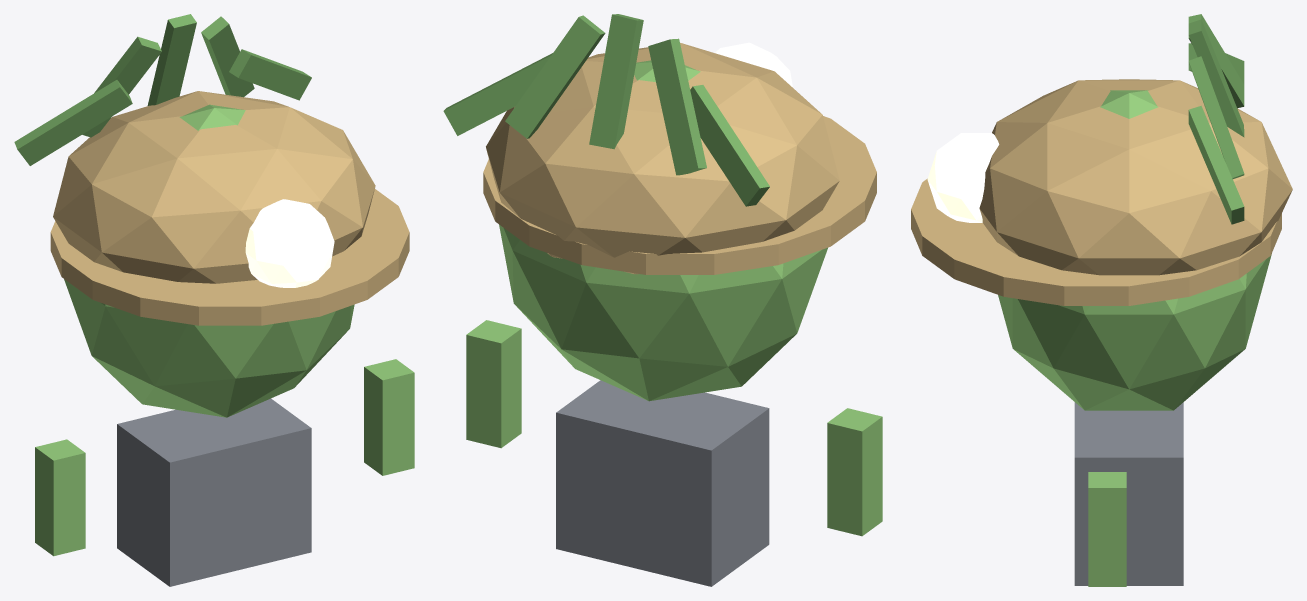
Rendered from lil_blunt_placeholder.glb.
3 renders of one model, left to right at view 1: azimuth 30°, elevation 25°; view 2: azimuth 150°, elevation 25°; view 3: azimuth 270°, elevation 25°, orthographic. The views are drawn at different scales.
Parts seen in each view (by area): view 1: Helmet, Torso, Head, Brim, HeadLamp, Arm+1, Arm-1, Frond0, Frond2, Frond4, Frond3, Frond1; view 2: Helmet, Torso, Head, Brim, Arm-1, Arm+1, Frond1, Frond2, Frond3, Frond0, Frond4, HeadLamp; view 3: Helmet, Head, Torso, Brim, HeadLamp, Arm+1, Frond4, Frond2, Frond3, Frond1.
Boxes of the visible parts, x1=… form: Helmet: x1=53, y1=91, x2=375, y2=283; Torso: x1=117, y1=398, x2=311, y2=586; Head: x1=64, y1=104, x2=354, y2=417; Brim: x1=50, y1=189, x2=409, y2=325; HeadLamp: x1=245, y1=199, x2=334, y2=287; Arm+1: x1=364, y1=359, x2=414, y2=475; Arm-1: x1=35, y1=439, x2=85, y2=556; Frond0: x1=14, y1=80, x2=132, y2=165; Frond2: x1=147, y1=14, x2=196, y2=105; Frond4: x1=229, y1=49, x2=311, y2=100; Frond3: x1=201, y1=16, x2=254, y2=97; Frond1: x1=82, y1=36, x2=161, y2=137; Helmet: x1=486, y1=43, x2=839, y2=274; Torso: x1=556, y1=380, x2=769, y2=586; Head: x1=499, y1=60, x2=827, y2=401; Brim: x1=483, y1=116, x2=876, y2=274; Arm-1: x1=827, y1=408, x2=882, y2=536; Arm+1: x1=466, y1=320, x2=521, y2=448; Frond1: x1=648, y1=38, x2=706, y2=175; Frond2: x1=589, y1=14, x2=643, y2=149; Frond3: x1=505, y1=15, x2=605, y2=138; Frond0: x1=690, y1=85, x2=769, y2=206; Frond4: x1=443, y1=53, x2=552, y2=135; HeadLamp: x1=715, y1=42, x2=792, y2=87; Helmet: x1=979, y1=79, x2=1292, y2=275; Head: x1=998, y1=90, x2=1271, y2=410; Torso: x1=1074, y1=402, x2=1183, y2=585; Brim: x1=911, y1=178, x2=1281, y2=305; HeadLamp: x1=927, y1=133, x2=999, y2=222; Arm+1: x1=1088, y1=472, x2=1126, y2=586; Frond4: x1=1188, y1=105, x2=1244, y2=224; Frond2: x1=1188, y1=19, x2=1244, y2=137; Frond3: x1=1188, y1=56, x2=1244, y2=178; Frond1: x1=1188, y1=14, x2=1244, y2=108.
Bounding box in the file's own units: 0.79 × 1.06 × 0.7.
